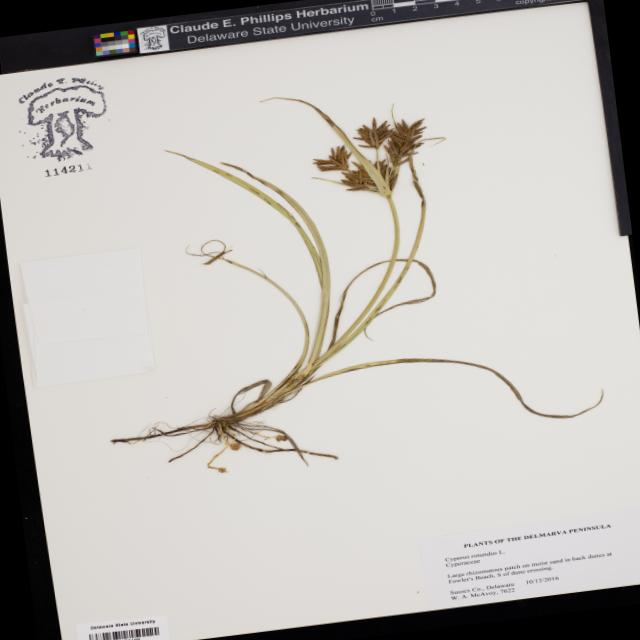cyperus: (296, 96, 453, 210)
